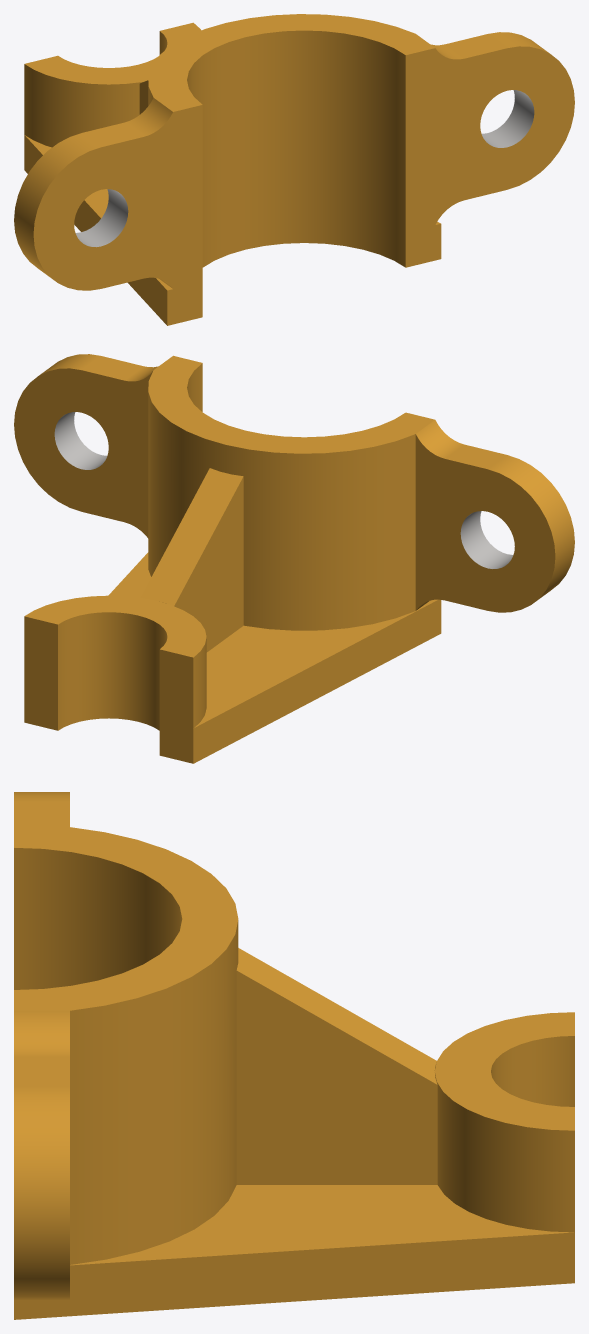
3 views of the same model, one above another, from view 1: azimuth 30°, elevation 25°; view 2: azimuth 150°, elevation 25°; view 3: azimuth 270°, elevation 25° (orthographic). The views are drawn at different scales.
Parts seen in each view (by area): view 1: s9_16; view 2: s9_16; view 3: s9_16.
Part boxes in pixels (x1,y1,x2,y2): s9_16: (14,14,574,325); s9_16: (14,354,574,763); s9_16: (14,792,574,1319).
Size of the model in its own units: 0.16 by 0.06 by 0.1.
